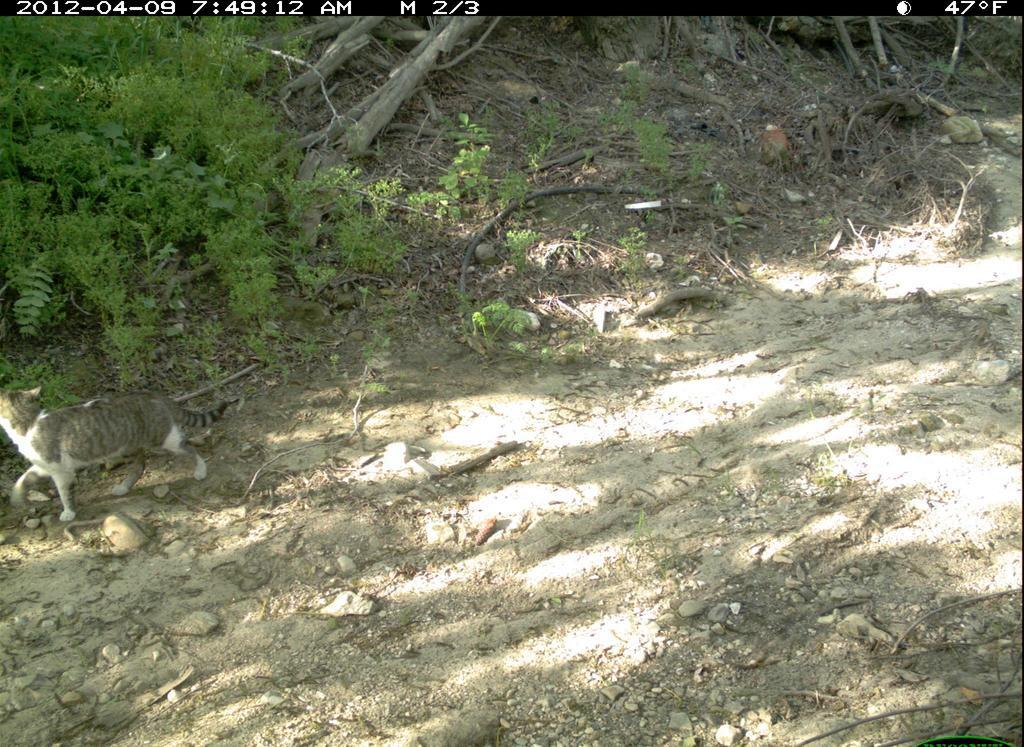cat: (3, 377, 240, 527)
